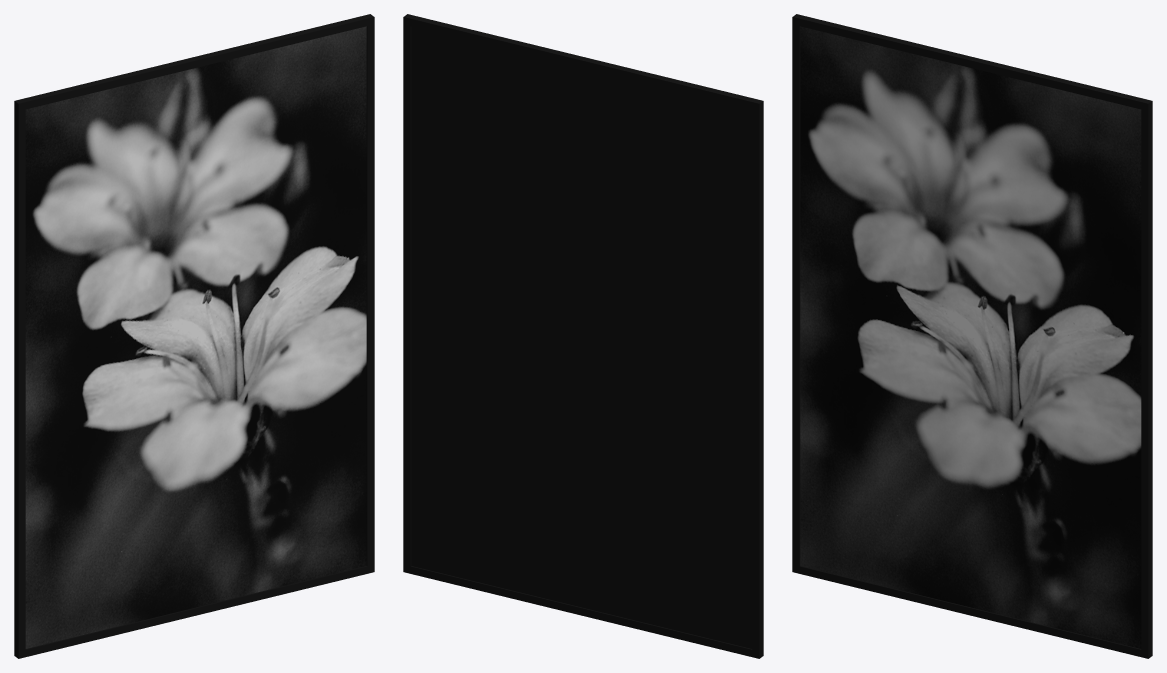
File: Picture 4.FBX
3 views of the same model, side by side, from view 1: azimuth 30°, elevation 25°; view 2: azimuth 150°, elevation 25°; view 3: azimuth 330°, elevation 25° (orthographic).
Visible parts, largest first — view 1: picture 4; view 2: picture 4; view 3: picture 4.
Boxes of the visible parts, x1=… form: picture 4: x1=14, y1=14, x2=374, y2=658; picture 4: x1=403, y1=14, x2=763, y2=658; picture 4: x1=792, y1=14, x2=1152, y2=658.
Size of the model in its own units: 49.43 by 73.67 by 0.9849.
1 material, 1 textured.
